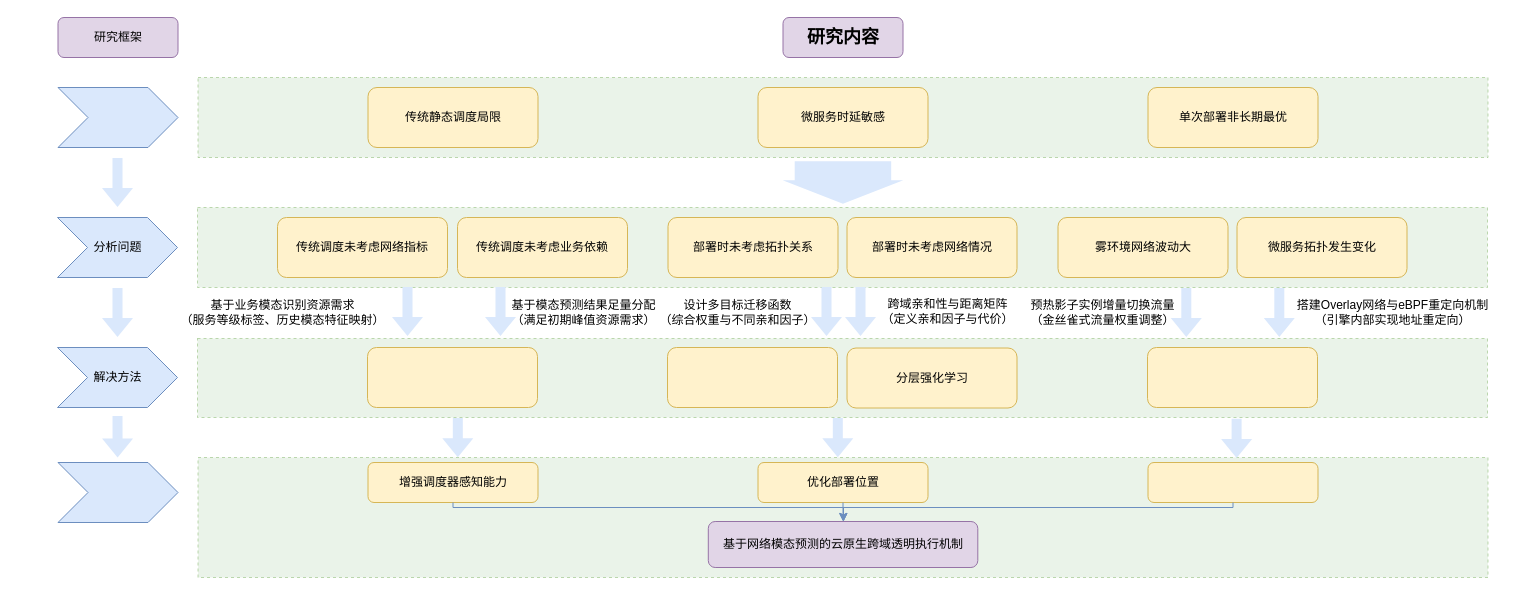
Some shapes in this 1514 by 595 pixel diagram are drawn without their labels. The shapes that lost their labels are listed below. From the top down, each one's box as (x1, y1, x2, y2) in pixels, then its label:
(57, 86, 178, 148): 提出问题
(782, 161, 903, 203): 问题剖析
(366, 346, 538, 408): 双维拓扑融合
(666, 346, 838, 408): 图注意力网络
(1146, 346, 1318, 408): 事件周期双触发驱逐机制
(57, 462, 178, 522): 研究成果
(1147, 462, 1318, 502): 保障部署长期最优
